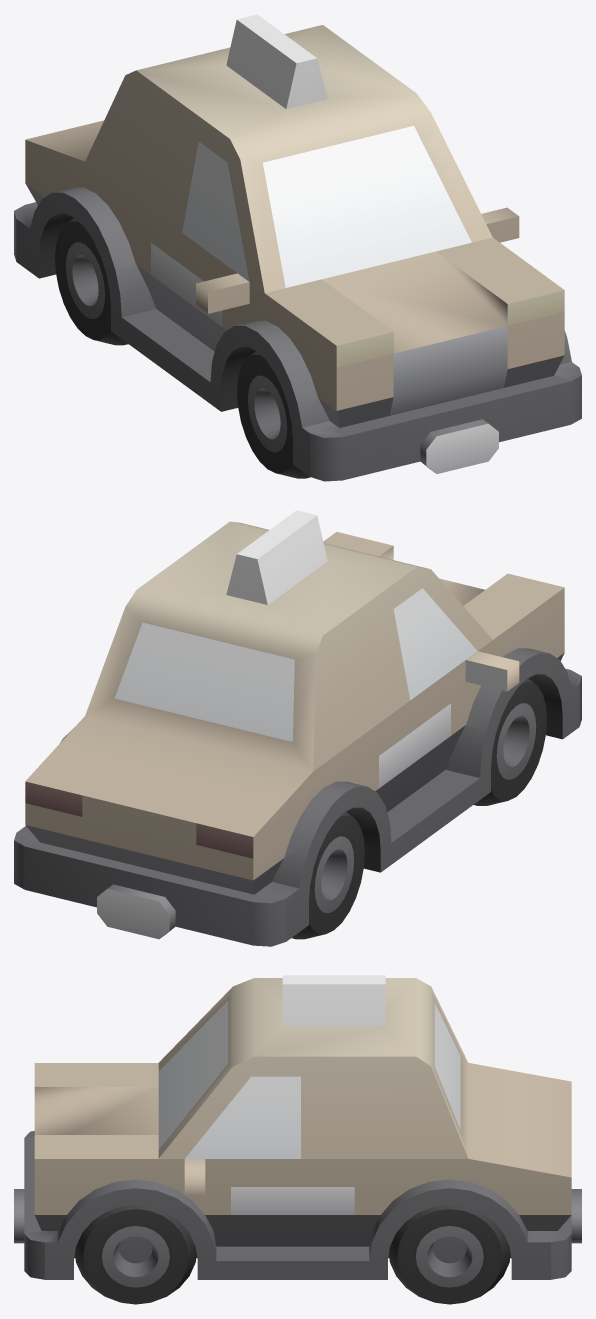
Rendered from car-taxi.glb.
3 renders of one model, top to bottom at view 1: azimuth 30°, elevation 25°; view 2: azimuth 150°, elevation 25°; view 3: azimuth 270°, elevation 25°, orthographic. The views are drawn at different scales.
Parts seen in each view (by area): view 1: body, wheel-front-right, wheel-back-right; view 2: body, wheel-back-right, wheel-front-right; view 3: body, wheel-back-left, wheel-front-left.
Boxes of the visible parts, x1,y1,x2,y2 form: body: (14,14,581,481); wheel-front-right: (237,350,310,478); wheel-back-right: (55,217,128,345); body: (14,510,581,946); wheel-back-right: (291,811,364,939); wheel-front-right: (473,678,546,805); body: (14,975,581,1279); wheel-back-left: (388,1205,510,1304); wheel-front-left: (75,1205,196,1304).
Size of the model in its own units: 1.5 by 1.5 by 2.75.
Materials: 1 (1 with a texture image).
